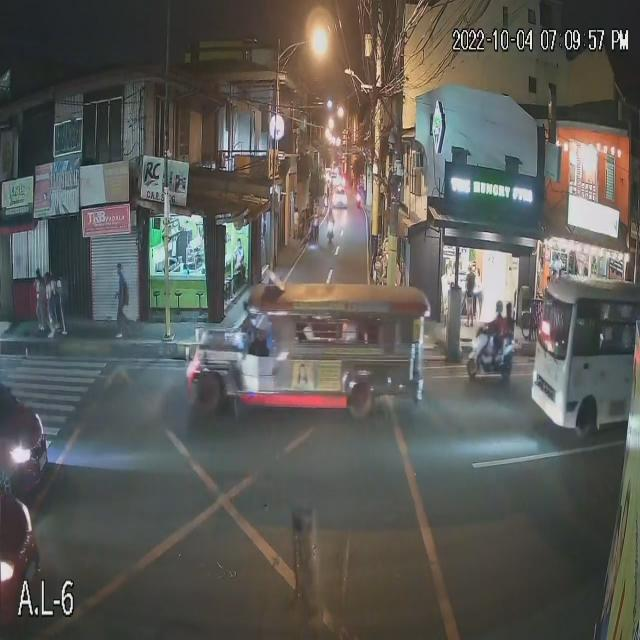helmet: (494, 300, 504, 314), (506, 302, 513, 316)
motorcycle: (465, 328, 515, 383), (327, 221, 336, 244)
rider: (480, 315, 503, 372), (493, 318, 513, 371), (326, 216, 335, 233)
